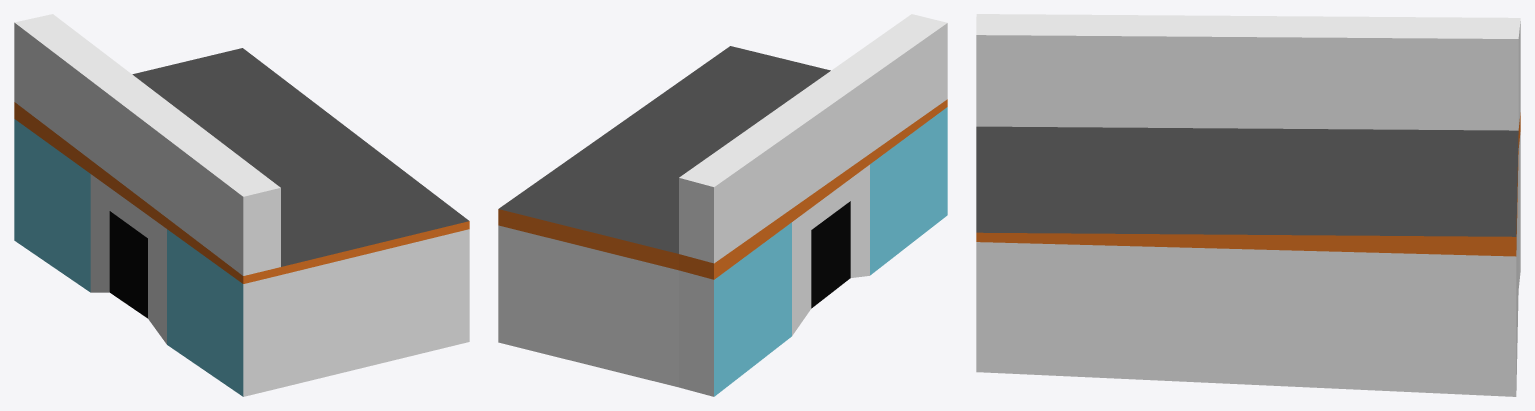
File: Shop_02.fbx
3 views of the same model, side by side, from view 1: azimuth 30°, elevation 25°; view 2: azimuth 150°, elevation 25°; view 3: azimuth 270°, elevation 25° (orthographic). The views are drawn at different scales.
Visible parts, largest first — view 1: Building_06; view 2: Building_06; view 3: Building_06.
Boxes of the visible parts, bbox=[...] form: Building_06: bbox=[14, 14, 469, 396]; Building_06: bbox=[498, 14, 947, 396]; Building_06: bbox=[976, 14, 1520, 396].
Bounding box in the file's own units: 1800 × 1608 × 3154.
